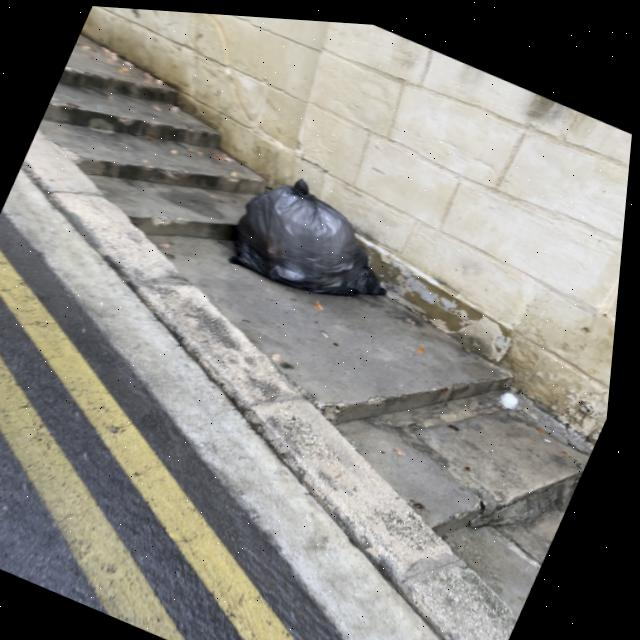Mixed Waste -Black Bag-: (226, 158, 426, 321)
